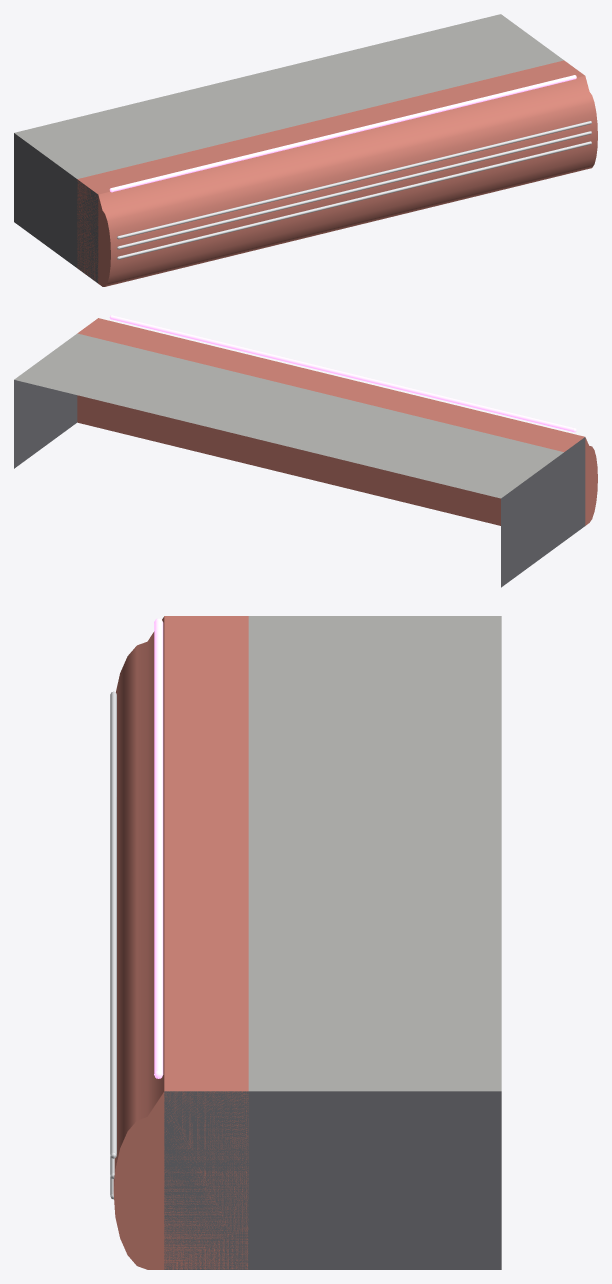
The model's file is retro_cap_band_4.glb.
3 renders of one model, top to bottom at view 1: azimuth 30°, elevation 25°; view 2: azimuth 150°, elevation 25°; view 3: azimuth 270°, elevation 25°, orthographic. The views are drawn at different scales.
Parts seen in each view (by area): view 1: retro_cap_band_4; view 2: retro_cap_band_4; view 3: retro_cap_band_4.
Boxes of the visible parts, x1,y1,x2,y2 form: retro_cap_band_4: [14, 14, 597, 286]; retro_cap_band_4: [14, 315, 597, 587]; retro_cap_band_4: [110, 616, 501, 1269].
Bounding box in the file's own units: 4 × 0.7368 × 1.39.
